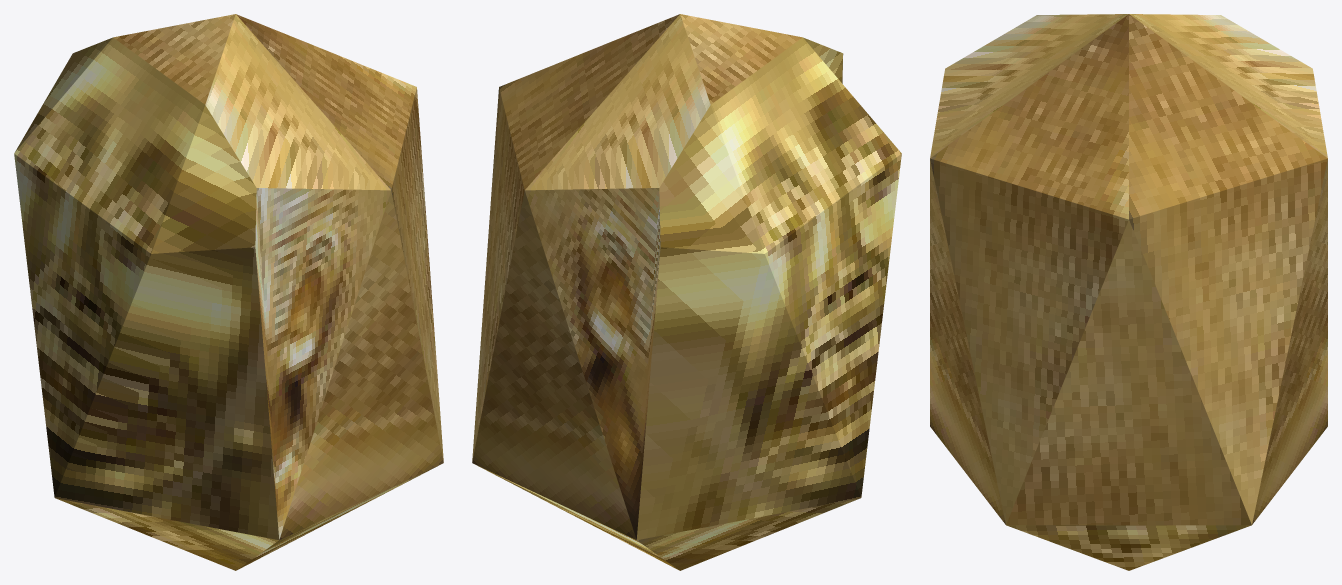
The model's file is idol.glb.
3 renders of one model, left to right at view 1: azimuth 30°, elevation 25°; view 2: azimuth 150°, elevation 25°; view 3: azimuth 270°, elevation 25°, orthographic.
Visible parts, largest first — view 1: Icosphere; view 2: Icosphere; view 3: Icosphere.
Boxes of the visible parts, bbox=[...] form: Icosphere: bbox=[14, 14, 443, 570]; Icosphere: bbox=[472, 14, 901, 570]; Icosphere: bbox=[930, 14, 1327, 570].
Size of the model in its own units: 1.79 by 2.63 by 1.7.
1 material, 1 textured.
